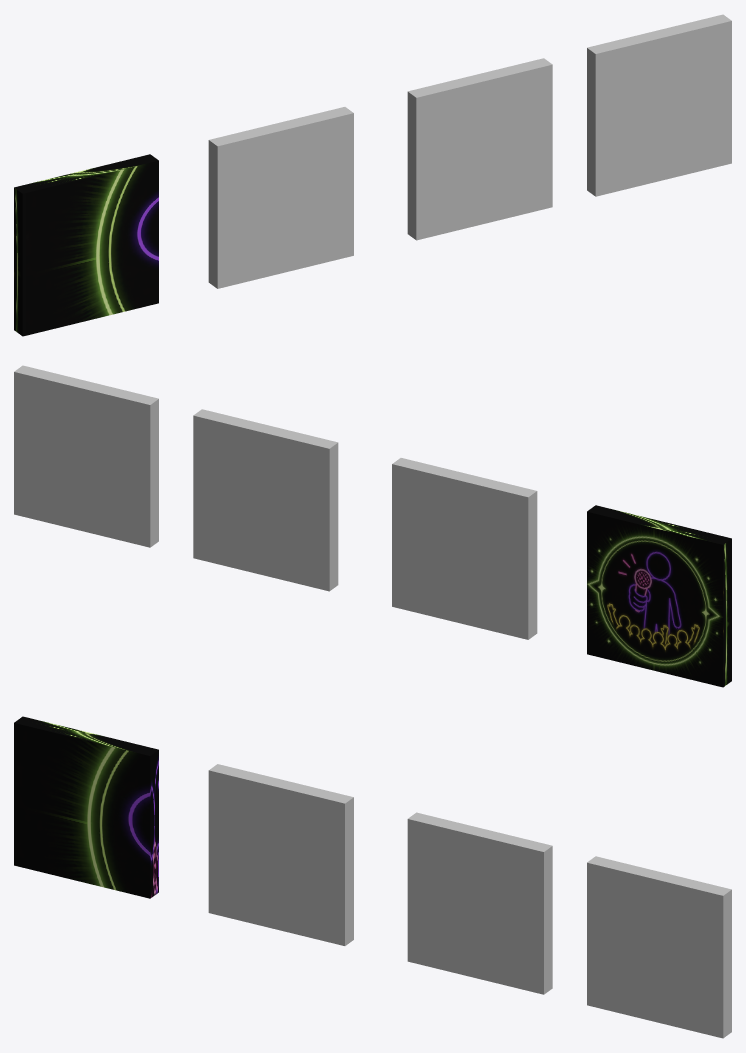
The model's file is 第三關舞台技能2.fbx.
The picture shows the model from 3 angles, top to bottom: view 1: azimuth 30°, elevation 25°; view 2: azimuth 150°, elevation 25°; view 3: azimuth 330°, elevation 25°; orthographic projection.
Parts seen in each view (by area): view 1: Cube.007, Cube.090, Cube.089, Cube.091; view 2: Cube.007, Cube.090, Cube.089, Cube.091; view 3: Cube.007, Cube.090, Cube.089, Cube.091.
Part boxes in pixels (x1,y1,x2,y2): Cube.007: [407, 58, 552, 240]; Cube.090: [208, 107, 353, 288]; Cube.089: [587, 14, 731, 196]; Cube.091: [14, 154, 158, 336]; Cube.007: [193, 409, 338, 591]; Cube.090: [392, 458, 537, 639]; Cube.089: [14, 365, 158, 547]; Cube.091: [587, 505, 731, 687]; Cube.007: [407, 812, 552, 994]; Cube.090: [208, 764, 353, 945]; Cube.089: [587, 856, 731, 1038]; Cube.091: [14, 716, 158, 898].
Bounding box in the file's own units: 697 × 32494 × 6246.
